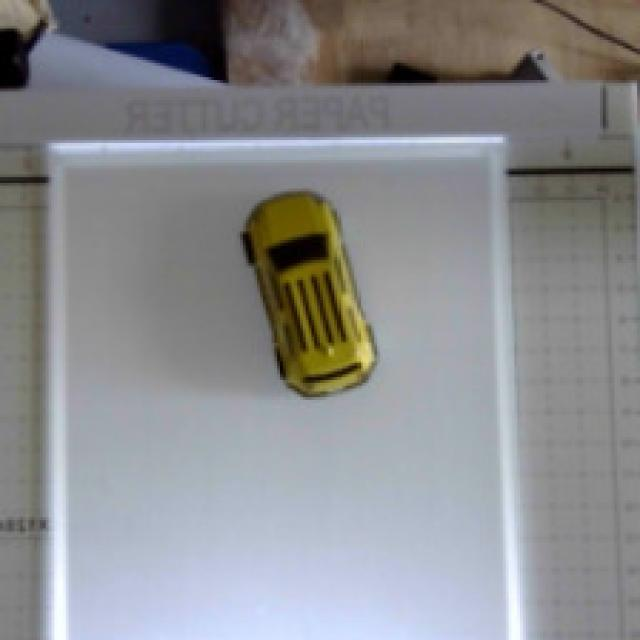Yellow Car: (200, 170, 437, 430)
